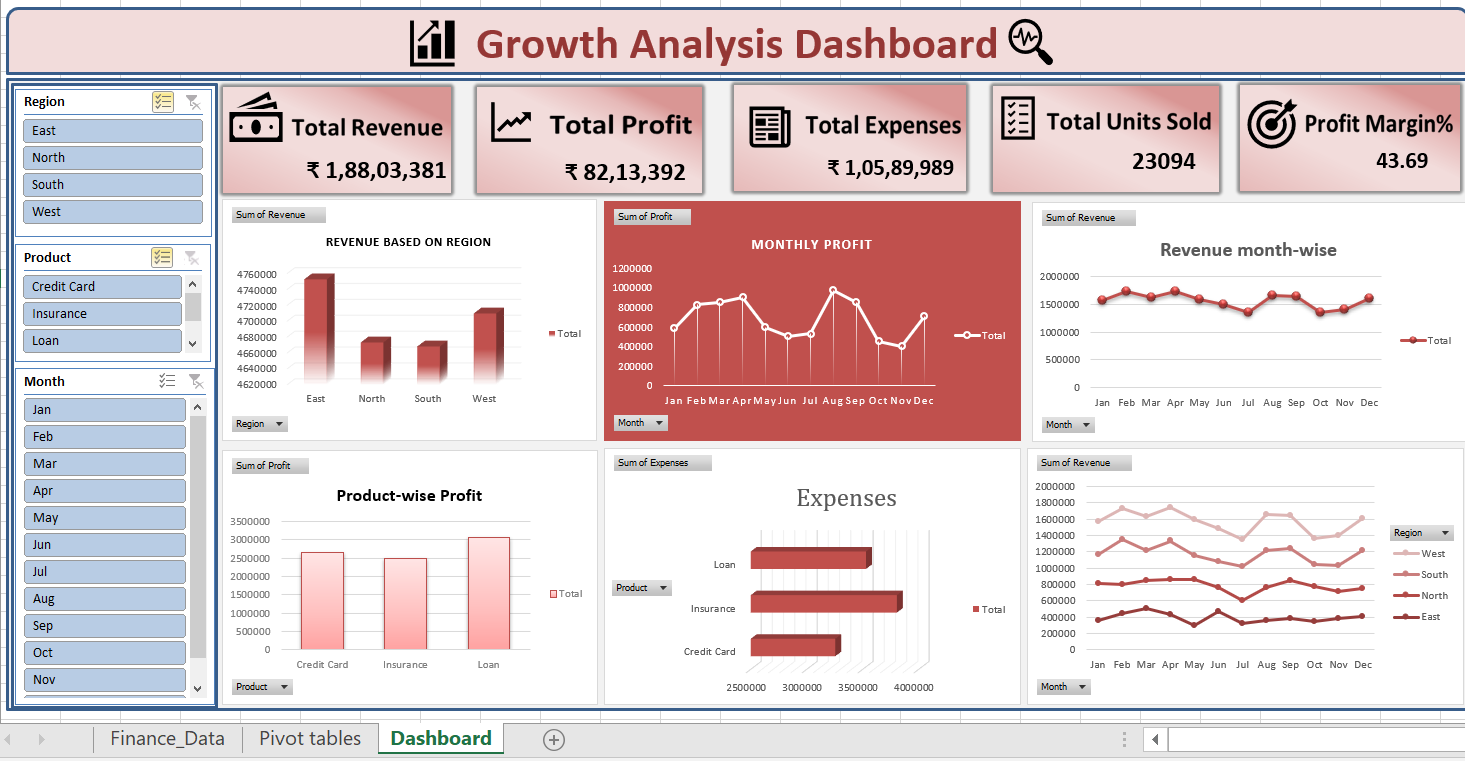

The page's visual inventory and layout, read from the dashboard file:
{"tool":"powerbi","page":{"name":"Page 1","canvas":[1280,720],"ordinal":0},"visuals":[{"type":"shape","box":[658.5,427.9,383.3,281.5],"z":0},{"type":"shape","box":[377,439,454.9,281.5],"z":1000},{"type":"shape","box":[0,0,1280.4,720.5],"z":2000},{"type":"shape","box":[1053.3,0,226.7,105],"z":3000},{"type":"shape","box":[1053,105,227.5,615.6],"z":4000},{"type":"textbox","box":[1053.3,0,213.3,140],"z":5000},{"type":"shape","box":[0,427.9,338.8,292.7],"z":6000},{"type":"columnChart","fields":{"Y":["Sum(Finance_Data.Revenue)"],"Category":["Finance_Data.Region"]},"box":[6.4,439,326.1,270.4],"z":7000},{"type":"lineChart","fields":{"Y":["Sum(Finance_Data.Profit)"],"Category":["Finance_Data.Month"]},"box":[658.5,439,394.5,281.5],"z":8000},{"type":"barChart","fields":{"Y":["Sum(Finance_Data.Expenses)"],"Category":["Finance_Data.Product"]},"box":[340.4,439,318.1,281.5],"z":9000},{"type":"slicer","fields":{"Values":["Finance_Data.Product"]},"box":[1070.5,273.6,189.3,138.4],"z":10000},{"type":"slicer","fields":{"Values":["Finance_Data.Region"]},"box":[1070.5,116.1,189.3,146.3],"z":11000},{"type":"slicer","fields":{"Values":["Finance_Data.Month"]},"box":[1067.3,427.9,192.5,292.7],"z":12000},{"type":"pieChart","fields":{"Category":["Finance_Data.Product"],"Y":["Sum(Finance_Data.Profit)"]},"box":[6.4,136.8,299,291.1],"z":13000},{"type":"lineChart","fields":{"Y":["Sum(Finance_Data.Revenue)"],"Category":["Finance_Data.Month"]},"box":[658.5,136.8,394.5,291.1],"z":14000},{"type":"columnChart","fields":{"Category":["Finance_Data.Month"],"Series":["Finance_Data.Region"],"Y":["Sum(Finance_Data.Revenue)"]},"box":[305.4,136.8,353.1,291.1],"z":15000},{"type":"cardVisual","title":"Total Revenue","fields":{"Data":["Finance_Data.Total Revenue"]},"box":[20.7,12.7,186.1,114.5],"z":15001},{"type":"cardVisual","title":"Total Profit","fields":{"Data":["Finance_Data.Total profit"]},"box":[229,12.7,186.1,114.5],"z":15002},{"type":"cardVisual","title":"Total Expenses","fields":{"Data":["Finance_Data.Total Expenses"]},"box":[439,12.7,186.1,114.5],"z":15003},{"type":"cardVisual","title":"Profit Margin% ","fields":{"Data":["Finance_Data.Profit Margin%"]},"box":[645.8,12.7,186.1,114.5],"z":15004},{"type":"cardVisual","title":"Total Units Sold","fields":{"Data":["Finance_Data.Total units sold"]},"box":[855.7,12.7,186.1,114.5],"z":15005}]}

Visuals, with their boxes on the page's 1280x720 design canvas (x1, y1, x2, y2). These are canvas units, not pixel positions in the 1465x761 screenshot, which may show the page scaled, cropped or inside an application window:
shape: detection(658, 428, 1042, 709)
shape: detection(377, 439, 832, 720)
shape: detection(0, 0, 1280, 720)
shape: detection(1053, 0, 1280, 105)
shape: detection(1053, 105, 1280, 721)
textbox: detection(1053, 0, 1267, 140)
shape: detection(0, 428, 339, 721)
columnChart - Sum(Finance_Data.Revenue) x Finance_Data.Region: detection(6, 439, 332, 709)
lineChart - Sum(Finance_Data.Profit) x Finance_Data.Month: detection(658, 439, 1053, 720)
barChart - Sum(Finance_Data.Expenses) x Finance_Data.Product: detection(340, 439, 658, 720)
slicer - Finance_Data.Product: detection(1070, 274, 1260, 412)
slicer - Finance_Data.Region: detection(1070, 116, 1260, 262)
slicer - Finance_Data.Month: detection(1067, 428, 1260, 721)
pieChart - Finance_Data.Product x Sum(Finance_Data.Profit): detection(6, 137, 305, 428)
lineChart - Sum(Finance_Data.Revenue) x Finance_Data.Month: detection(658, 137, 1053, 428)
columnChart - Finance_Data.Month x Finance_Data.Region: detection(305, 137, 658, 428)
"Total Revenue" cardVisual: detection(21, 13, 207, 127)
"Total Profit" cardVisual: detection(229, 13, 415, 127)
"Total Expenses" cardVisual: detection(439, 13, 625, 127)
"Profit Margin% " cardVisual: detection(646, 13, 832, 127)
"Total Units Sold" cardVisual: detection(856, 13, 1042, 127)
